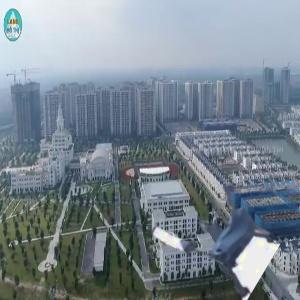drone: (161, 160, 286, 285)
